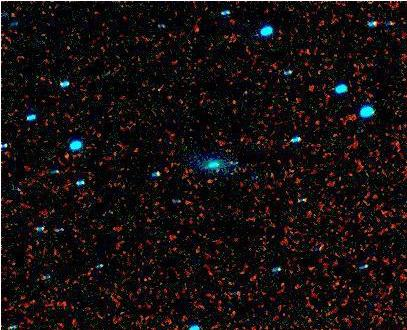star: (194, 166, 224, 196)
